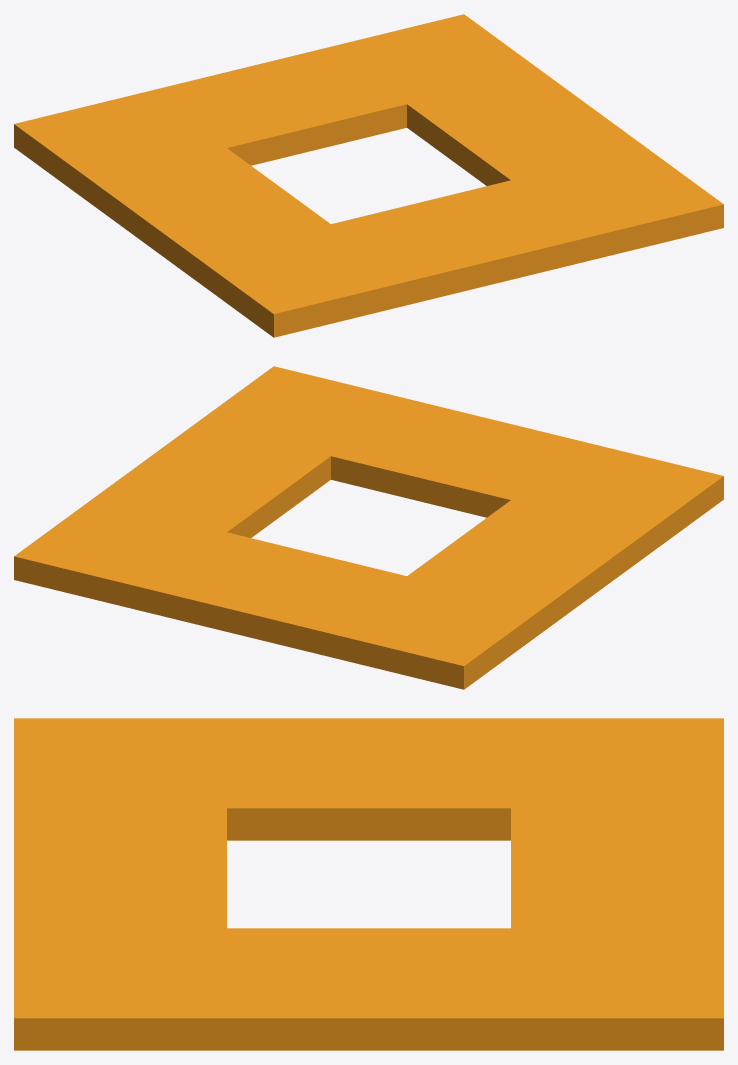
File: SM_Buildings_FloorHole_2x2_01.fbx
3 views of the same model, one above another, from view 1: azimuth 30°, elevation 25°; view 2: azimuth 150°, elevation 25°; view 3: azimuth 270°, elevation 25° (orthographic). The views are drawn at different scales.
Parts seen in each view (by area): view 1: SM_Buildings_FloorHole_2x2_01; view 2: SM_Buildings_FloorHole_2x2_01; view 3: SM_Buildings_FloorHole_2x2_01.
Part boxes in pixels (<box>): SM_Buildings_FloorHole_2x2_01: <box>14,14,723,337</box>; SM_Buildings_FloorHole_2x2_01: <box>14,366,723,689</box>; SM_Buildings_FloorHole_2x2_01: <box>14,718,723,1050</box>.
Bounding box in the file's own units: 200 × 10 × 200.
